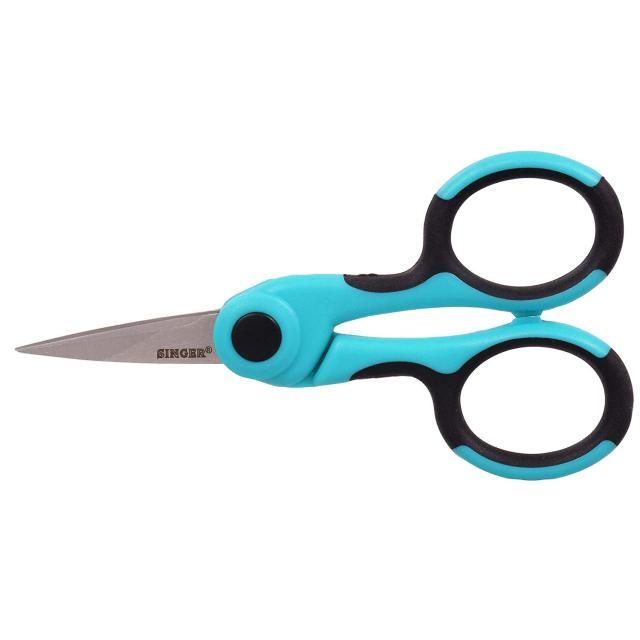scissor: (6, 143, 634, 483)
